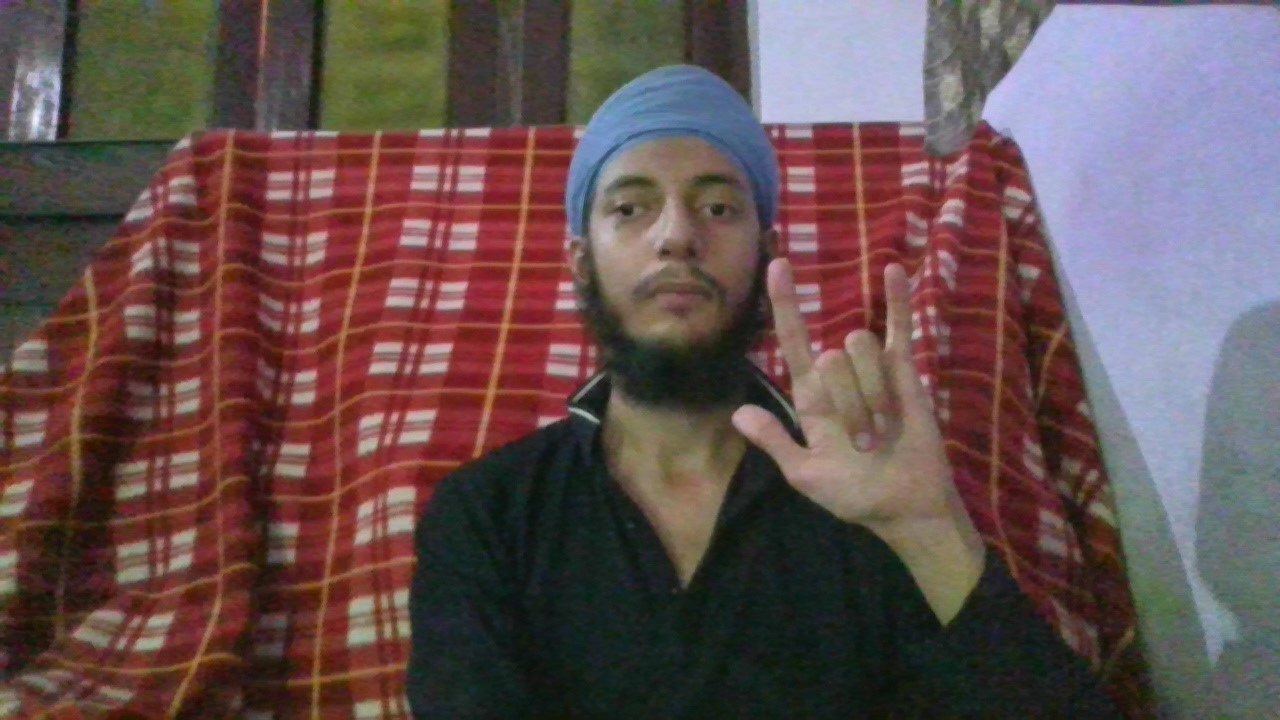I Love You: (727, 255, 959, 531)
